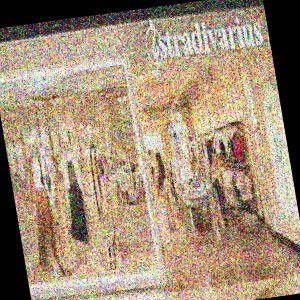stradivarius: (0, 58, 273, 99)
